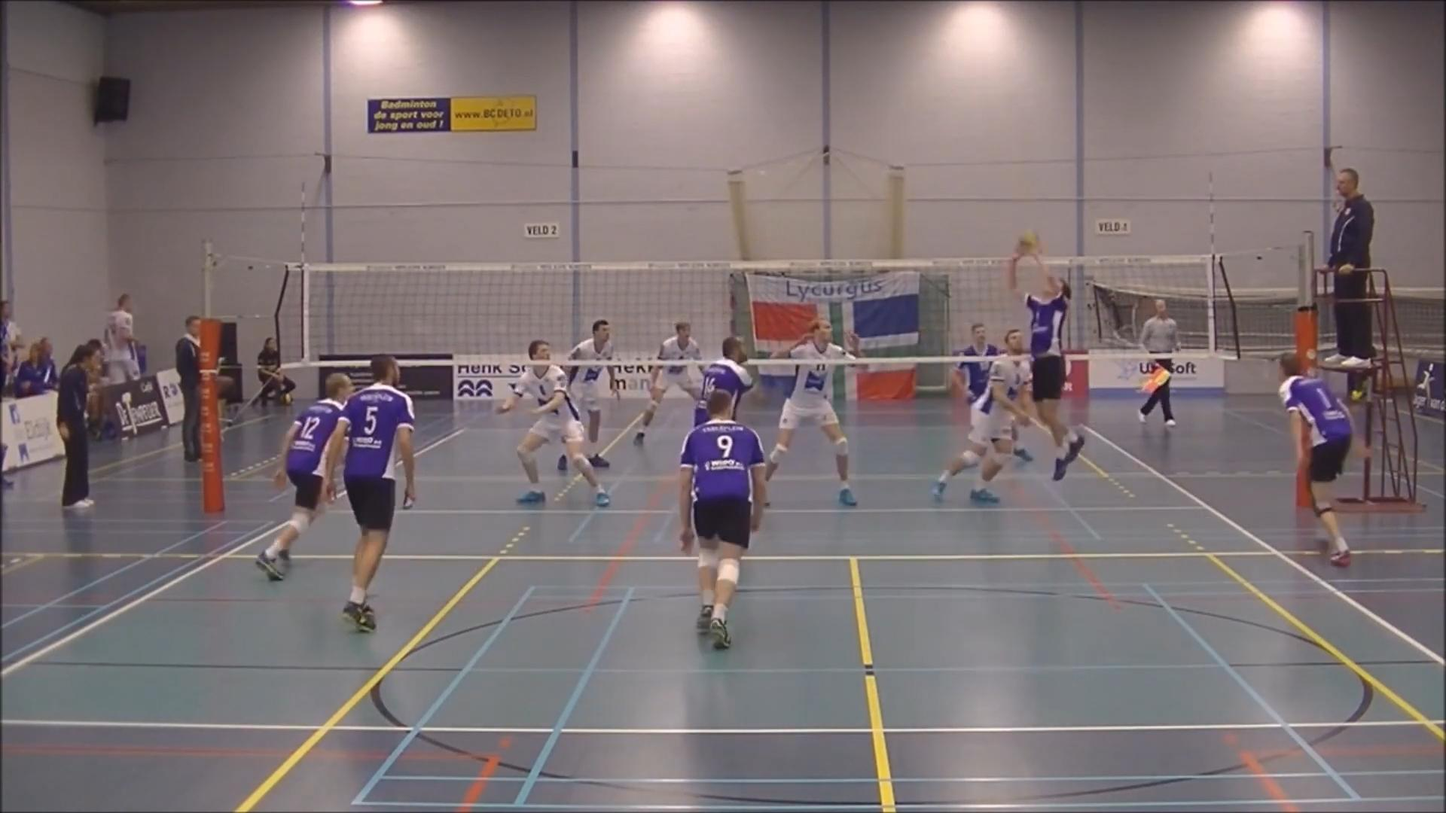Player: (323, 355, 416, 632), (679, 390, 766, 648), (1000, 245, 1087, 477), (255, 373, 352, 580), (1279, 352, 1369, 567), (499, 340, 609, 507), (765, 318, 861, 506), (965, 330, 1030, 503), (633, 321, 701, 444), (566, 364, 621, 468), (694, 337, 753, 425), (952, 323, 999, 403)
ball: (1016, 234, 1042, 256)
